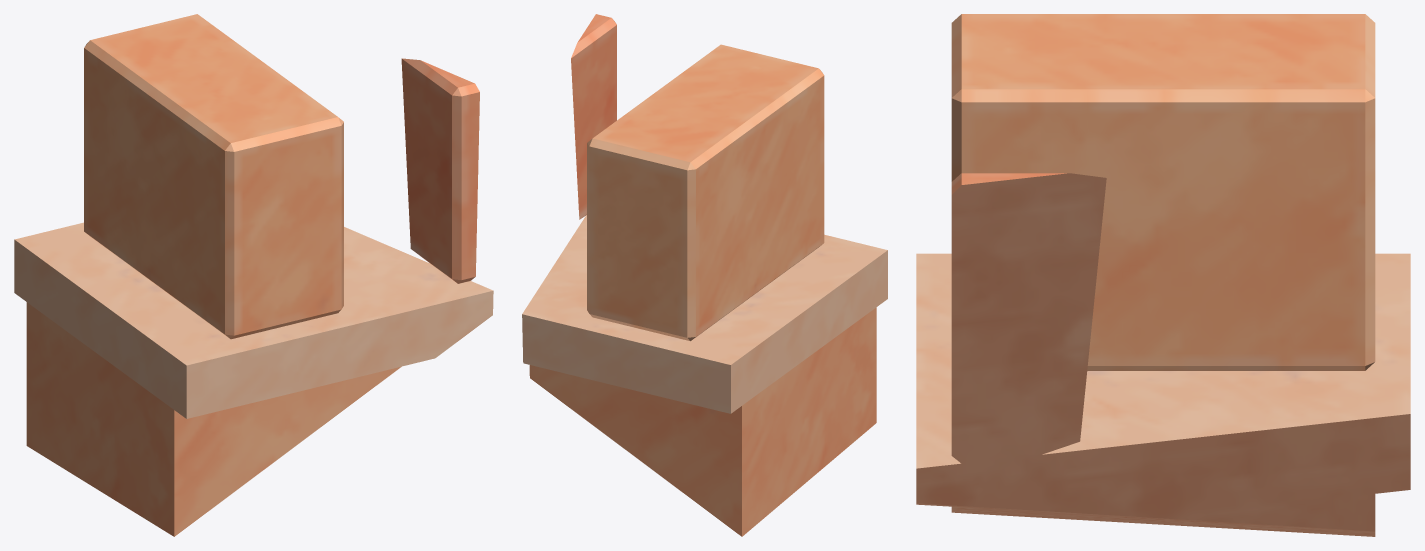
File: towngate_s05.fbx
3 renders of one model, left to right at view 1: azimuth 30°, elevation 25°; view 2: azimuth 150°, elevation 25°; view 3: azimuth 270°, elevation 25°, orthographic. The views are drawn at different scales.
Parts seen in each view (by area): view 1: towngate_s05; view 2: towngate_s05; view 3: towngate_s05.
Part boxes in pixels (box(x1,y1,x2,y2)): towngate_s05: box(14, 14, 493, 536); towngate_s05: box(522, 14, 887, 536); towngate_s05: box(916, 14, 1410, 536).
Bounding box in the file's own units: 3.6 × 4.41 × 3.5.
